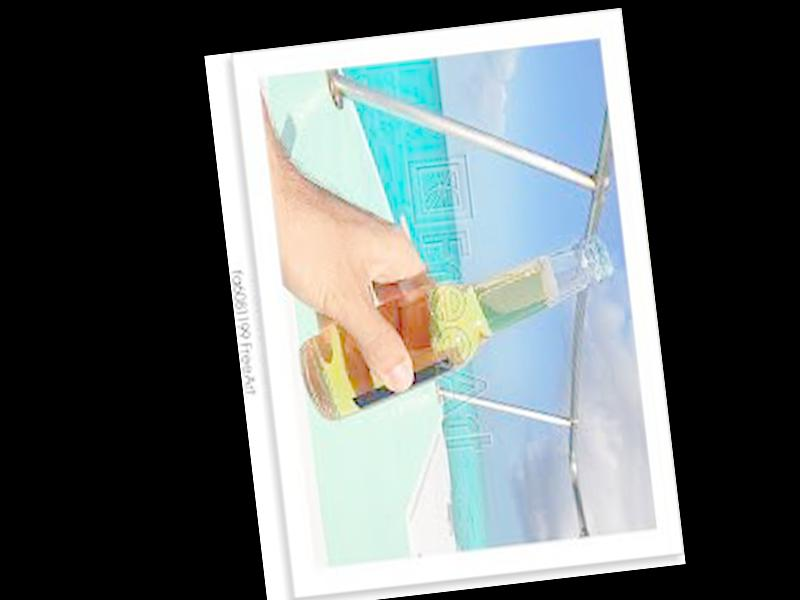Beer: (293, 226, 624, 425)
